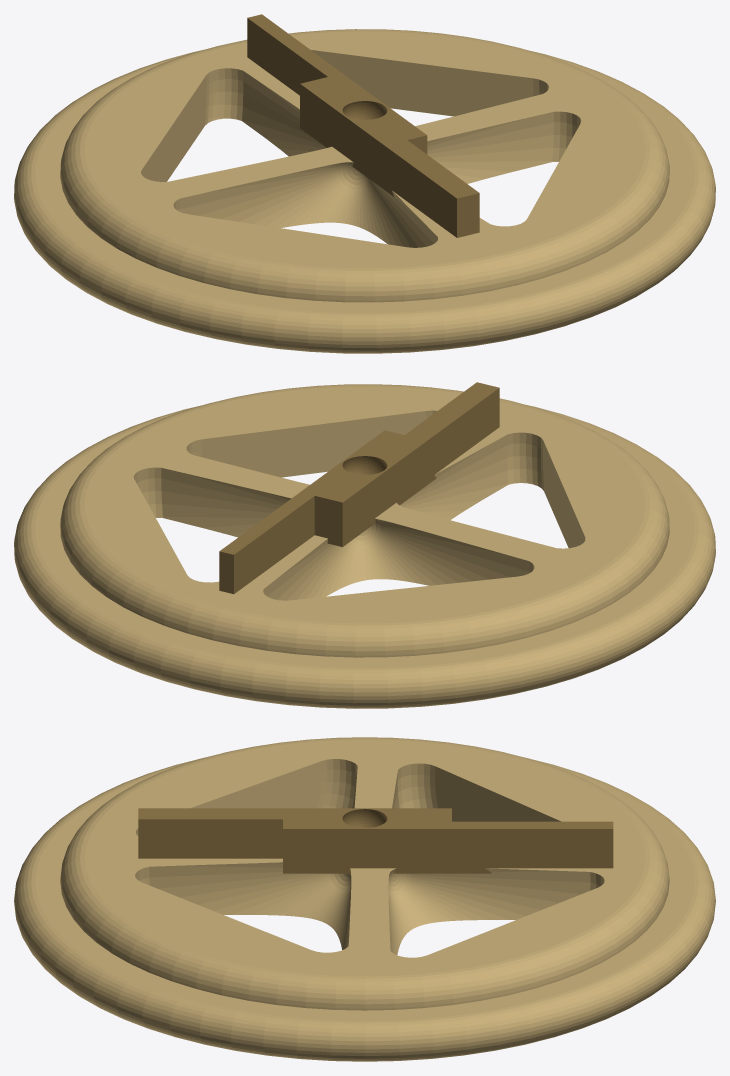
File: Astrolábio.gltf
The picture shows the model from 3 angles, top to bottom: view 1: azimuth 30°, elevation 25°; view 2: azimuth 150°, elevation 25°; view 3: azimuth 270°, elevation 25°; orthographic projection.
Visible parts, largest first — view 1: Merged Objects 1, Merged Objects; view 2: Merged Objects 1, Merged Objects; view 3: Merged Objects 1, Merged Objects.
Boxes of the visible parts, x1,y1,x2,y2 form: Merged Objects 1: (14,29,715,353); Merged Objects: (247,14,479,237); Merged Objects 1: (14,384,715,708); Merged Objects: (219,382,499,594); Merged Objects 1: (14,737,715,1061); Merged Objects: (138,808,613,873).
Size of the model in its own units: 0.1152 by 0.0184 by 0.1152.
